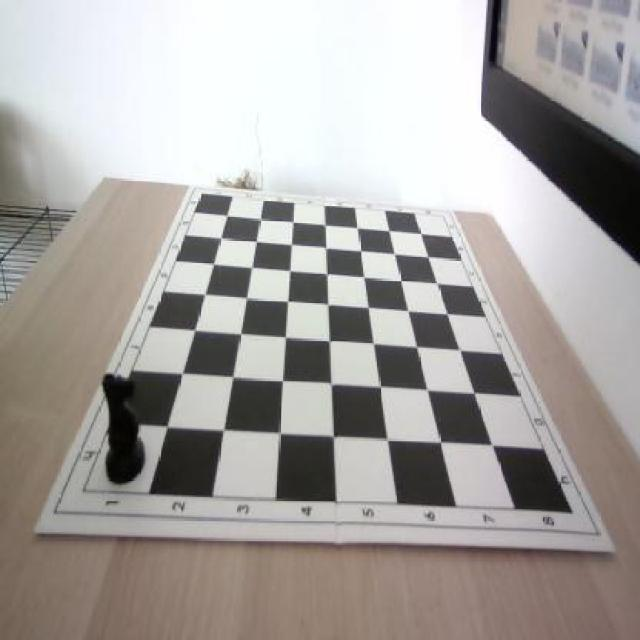black-king: (100, 374, 148, 484)
